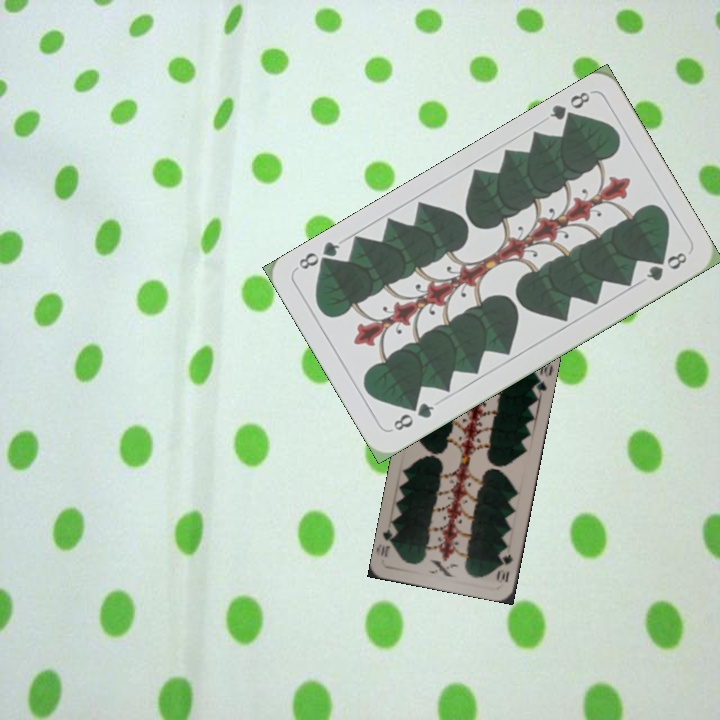G10: (493, 550, 516, 585)
G8: (545, 86, 595, 128), (389, 398, 437, 434)
